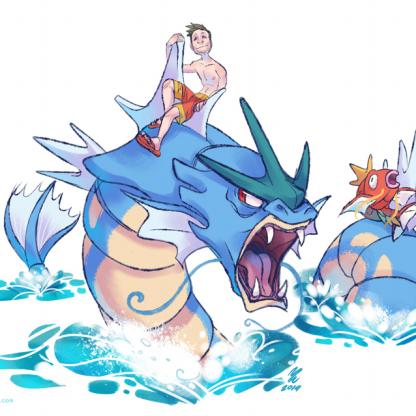Gyarados: (1, 122, 328, 416)
